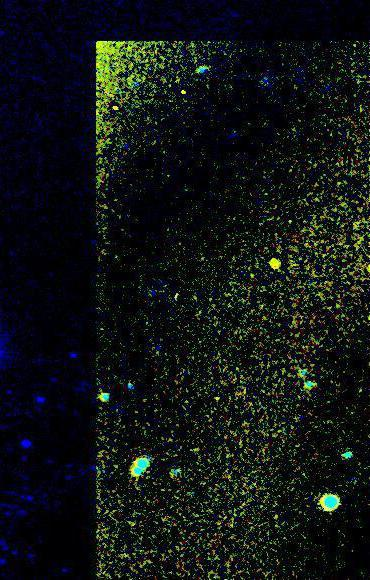star: (262, 249, 292, 279)
